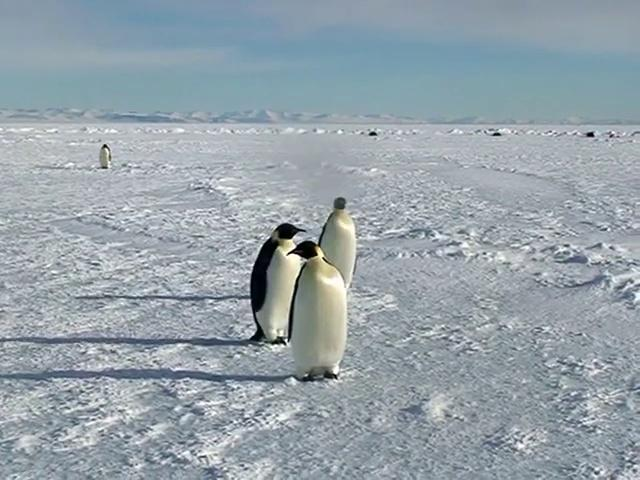animal: (320, 197, 357, 288)
